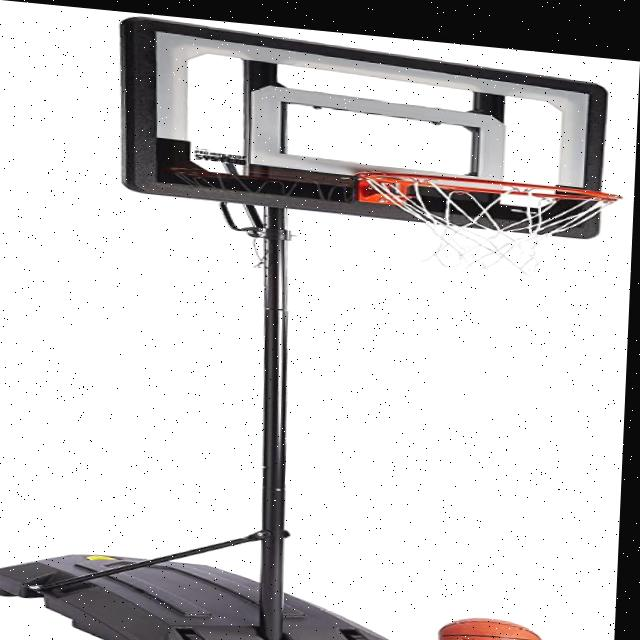basketball: (438, 614, 547, 640)
hoop: (351, 167, 623, 285)
